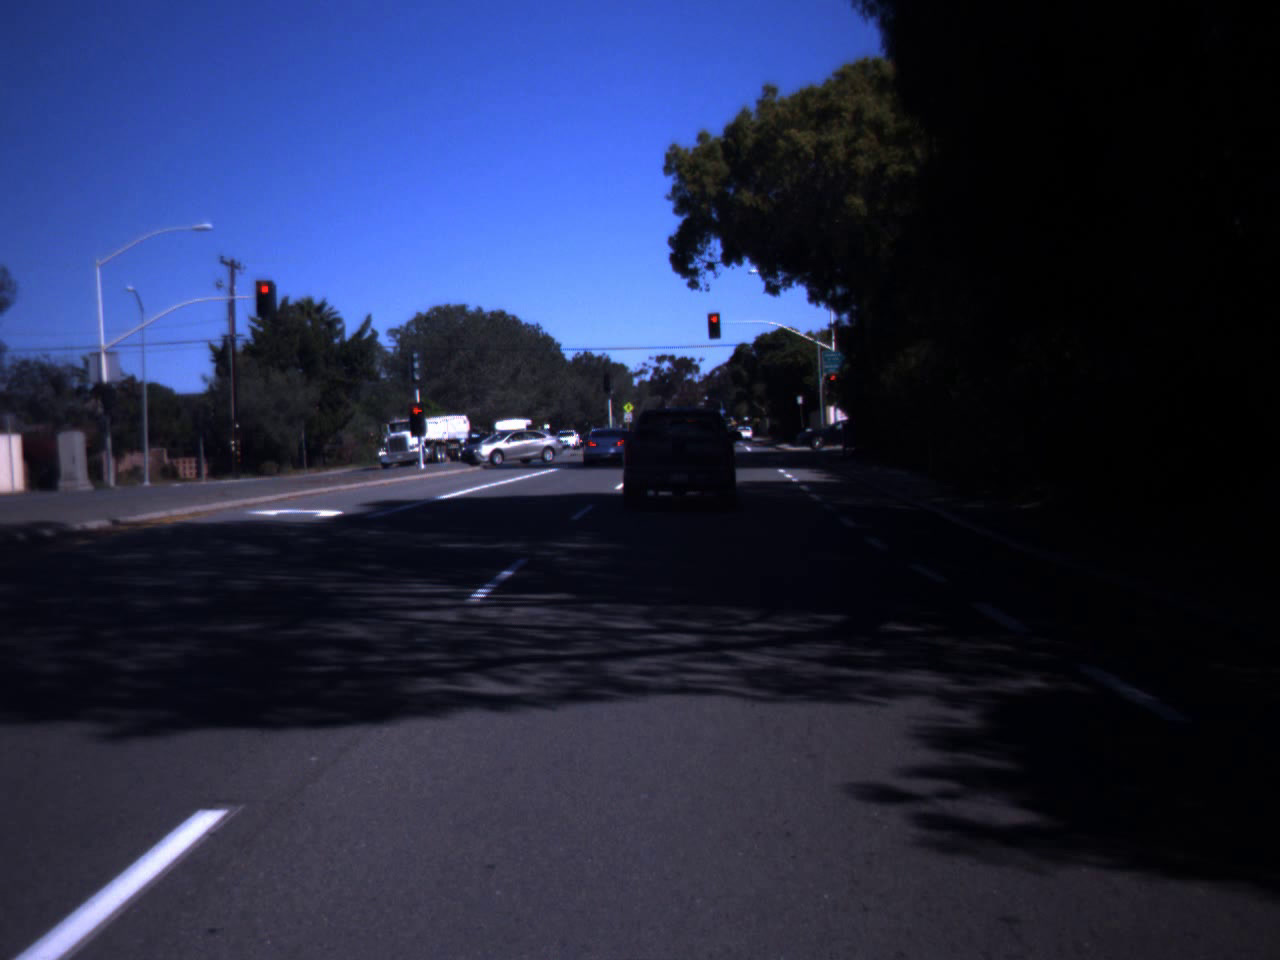stop: (407, 405, 428, 432), (256, 283, 274, 310), (708, 314, 720, 336), (827, 374, 839, 392)
